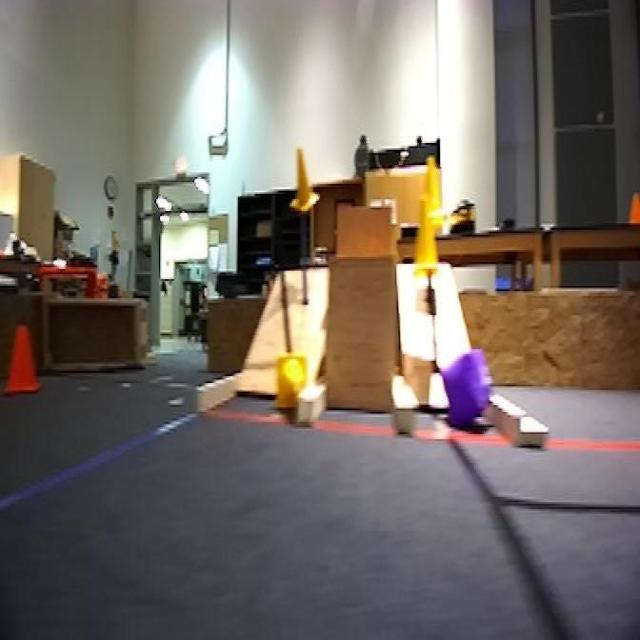frc_cone: (409, 201, 444, 277), (288, 145, 318, 216), (415, 155, 446, 221), (276, 352, 312, 408)
frc_cube: (440, 351, 489, 429)
